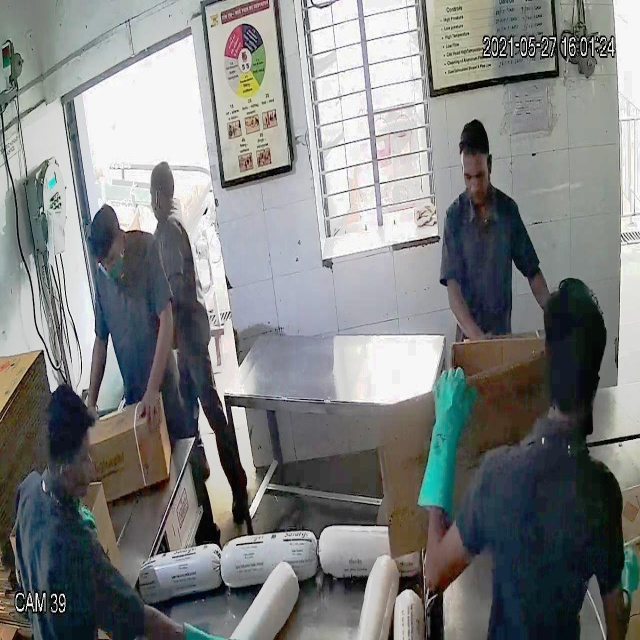Sin_gafas: (458, 156, 495, 188)
